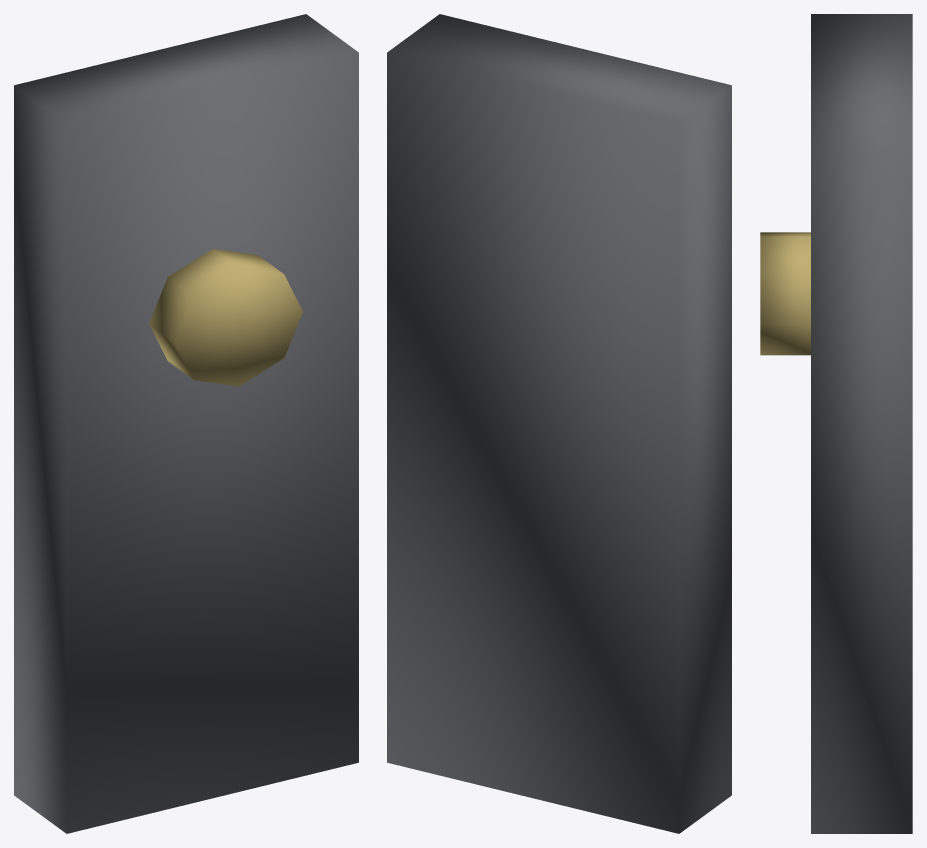
File: elevator_call_07.glb
3 renders of one model, left to right at view 1: azimuth 30°, elevation 25°; view 2: azimuth 150°, elevation 25°; view 3: azimuth 270°, elevation 25°, orthographic. The views are drawn at different scales.
Parts seen in each view (by area): view 1: world; view 2: world; view 3: world.
Boxes of the visible parts, x1=… form: world: x1=14, y1=14, x2=358, y2=833; world: x1=387, y1=14, x2=731, y2=833; world: x1=760, y1=14, x2=912, y2=833.
Size of the model in its own units: 0.1664 by 0.3864 by 0.078.
